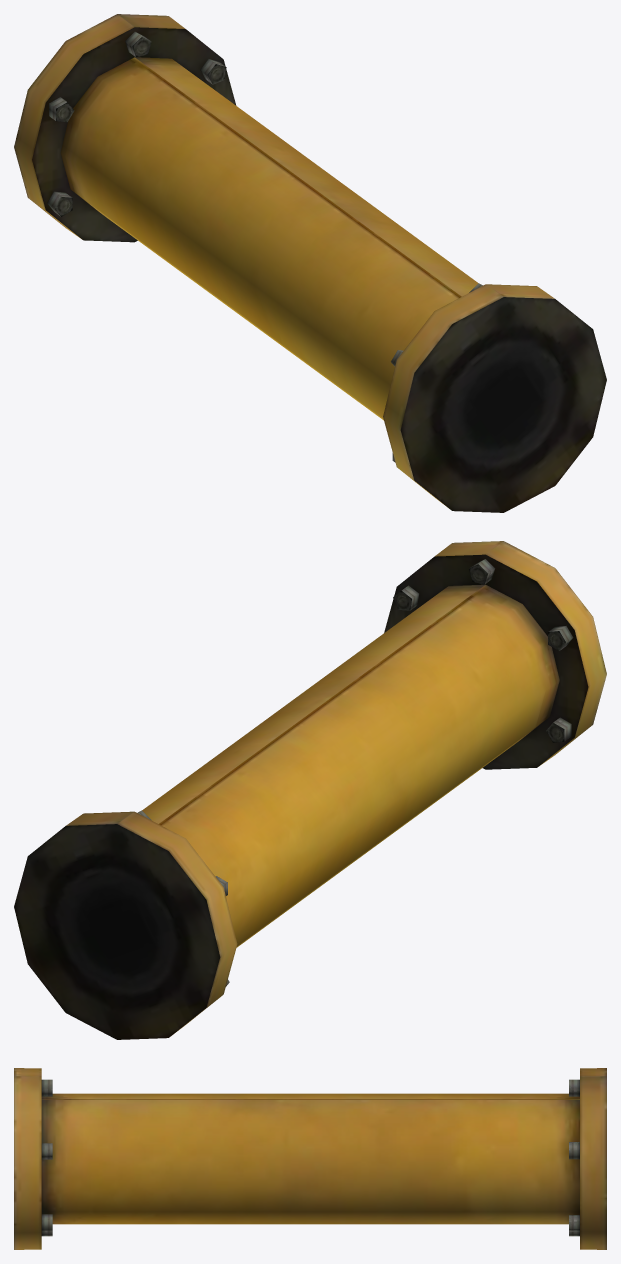
3 views of the same model, one above another, from view 1: azimuth 30°, elevation 25°; view 2: azimuth 150°, elevation 25°; view 3: azimuth 270°, elevation 25° (orthographic). The views are drawn at different scales.
Parts seen in each view (by area): view 1: body0_model0_lod0_mesh0; view 2: body0_model0_lod0_mesh0; view 3: body0_model0_lod0_mesh0.
Part boxes in pixels (x1=…): body0_model0_lod0_mesh0: x1=14, y1=14, x2=606, y2=512; body0_model0_lod0_mesh0: x1=14, y1=541, x2=606, y2=1039; body0_model0_lod0_mesh0: x1=14, y1=1068, x2=606, y2=1249.
Bounding box in the file's own units: 39.57 × 39.57 × 128.
1 material, 1 textured.
